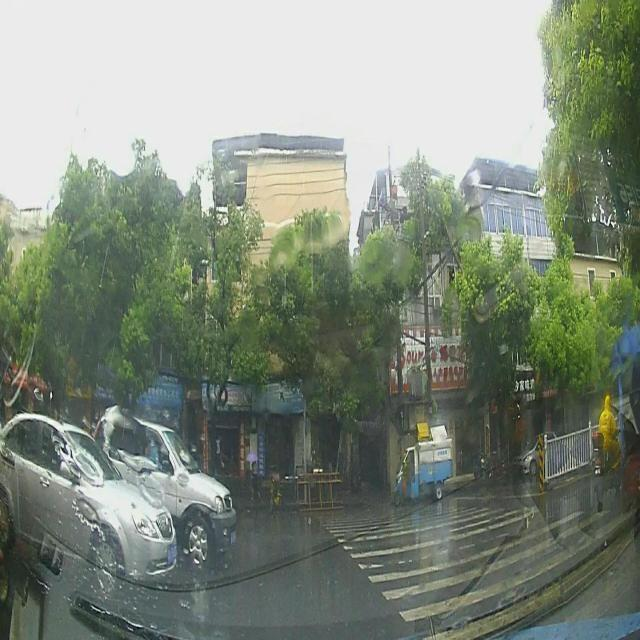car: (0, 411, 177, 610), (83, 412, 235, 564), (518, 430, 568, 477)
